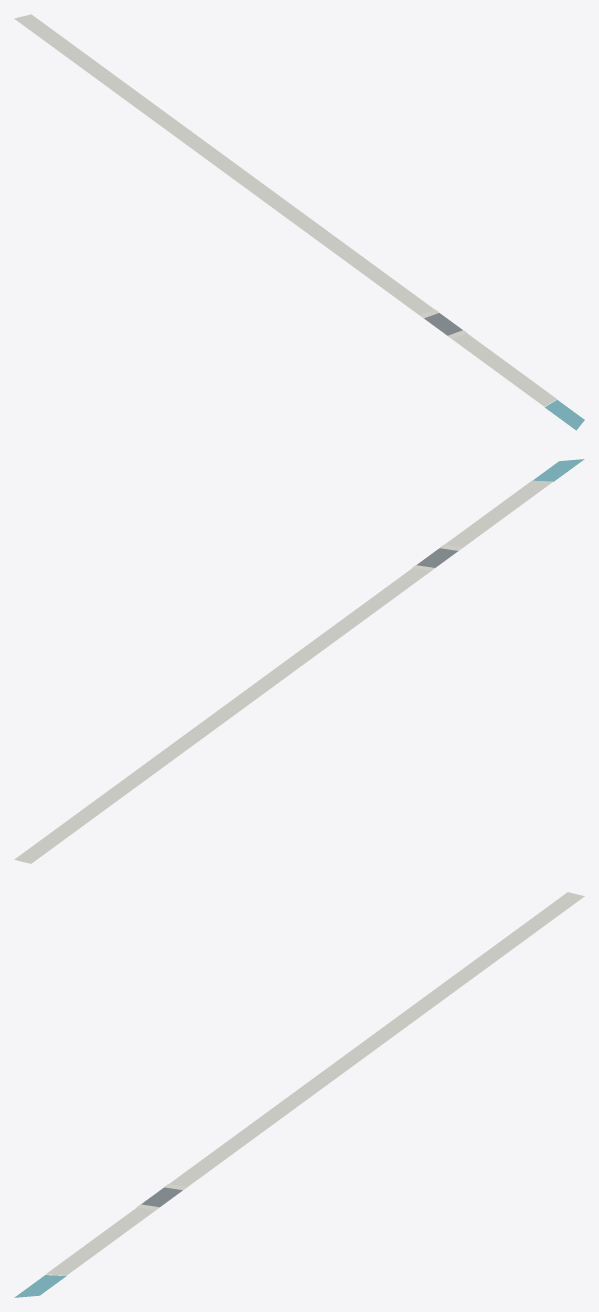
3 views of the same model, one above another, from view 1: azimuth 30°, elevation 25°; view 2: azimuth 150°, elevation 25°; view 3: azimuth 330°, elevation 25° (orthographic).
Visible parts, largest first — view 1: city; view 2: city; view 3: city.
Part boxes in pixels (x1,y1,x2,y2): city: [14, 14, 584, 430]; city: [14, 459, 584, 863]; city: [14, 892, 584, 1297].
Bounding box in the file's own units: 7.23 × 0.4 × 404.
